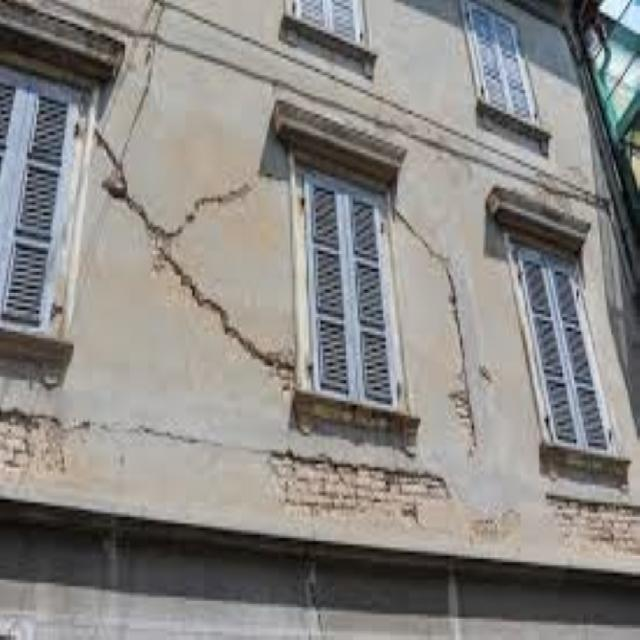Crack: (94, 110, 256, 242), (148, 245, 289, 395)
